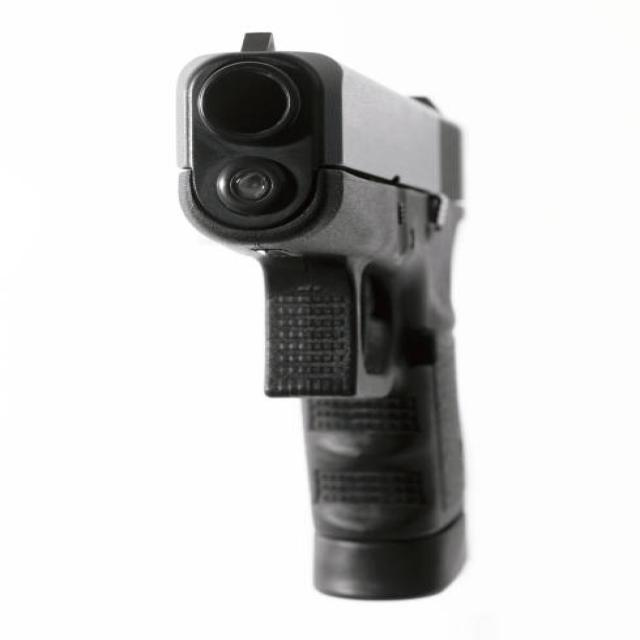pistol: (158, 15, 481, 609)
